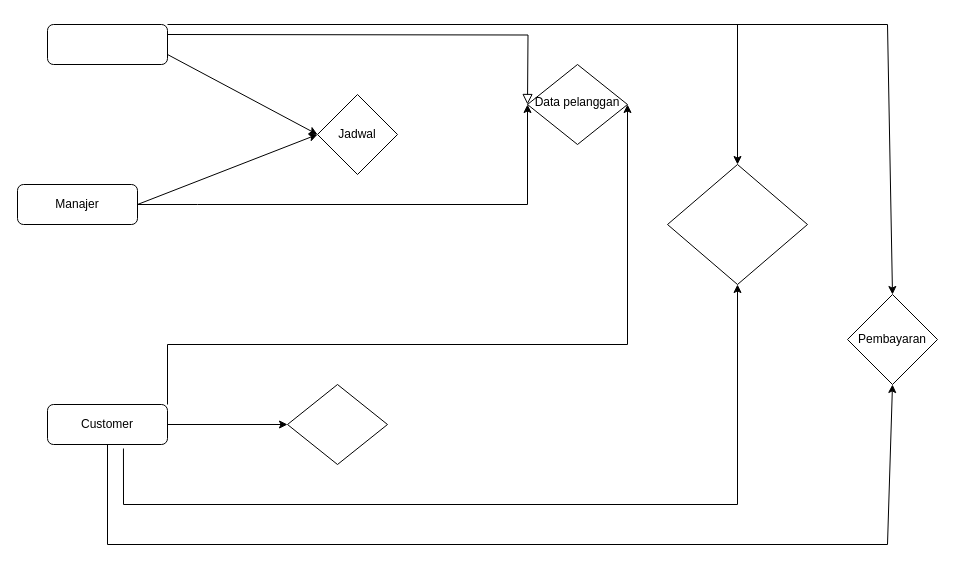
The diagram is 955 pixels wide and 570 high, and some of its shapes have lost their labels. Each missing label, with the centre of its shape:
"Data kepuasan pelanggan" belongs at (737,224).
"Data makeup" belongs at (337,424).
"MUA" belongs at (107,44).
